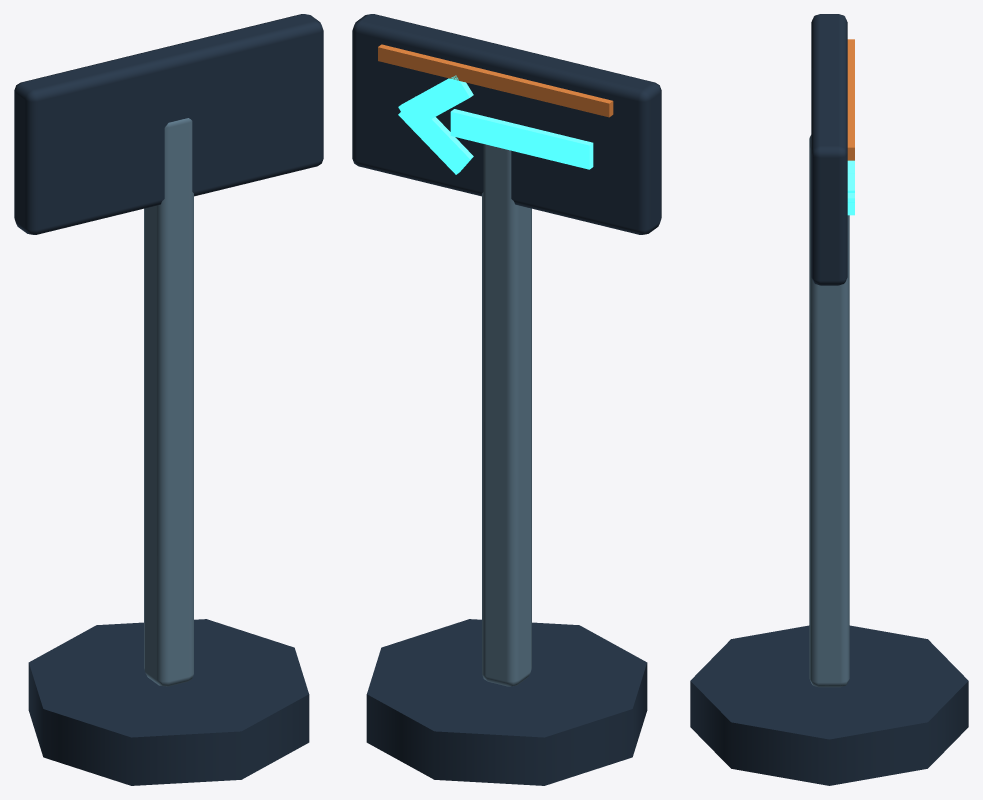
Rendered from navigation-marker.glb.
3 renders of one model, left to right at view 1: azimuth 30°, elevation 25°; view 2: azimuth 150°, elevation 25°; view 3: azimuth 270°, elevation 25°, orthographic. The views are drawn at different scales.
Parts seen in each view (by area): view 1: sign, foot, post; view 2: foot, sign, post, top-stripe, shaft, arrow-upper, arrow-lower; view 3: foot, post, sign, top-stripe.
Part boxes in pixels (box(x1,y1,x2,y2)): sign: box(14, 14, 323, 234); foot: box(28, 619, 309, 785); post: box(144, 118, 193, 686); foot: box(366, 619, 647, 785); sign: box(352, 14, 661, 234); post: box(482, 144, 531, 686); top-stripe: box(378, 44, 613, 117); shaft: box(450, 109, 593, 169); arrow-upper: box(398, 75, 473, 129); arrow-lower: box(398, 96, 473, 174); foot: box(690, 625, 968, 785); post: box(809, 135, 849, 687); sign: box(811, 14, 847, 285); top-stripe: box(847, 39, 854, 160).
Size of the model in its own units: 0.9 by 1.95 by 0.76.
